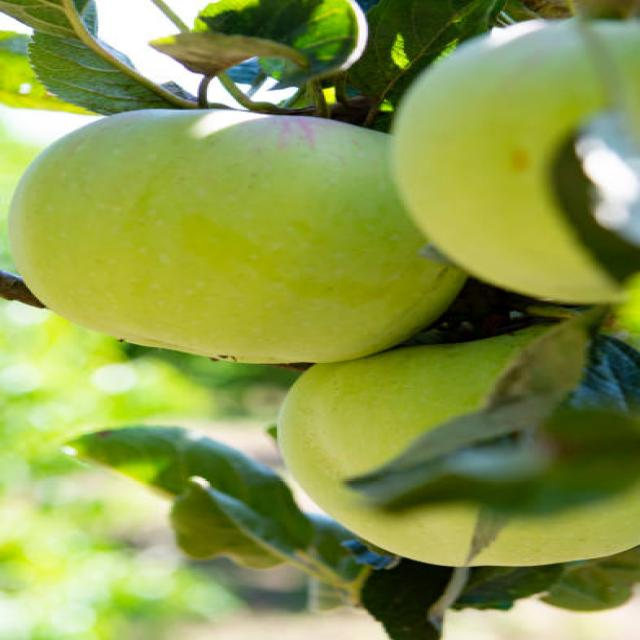Unripe: (5, 103, 468, 364)
